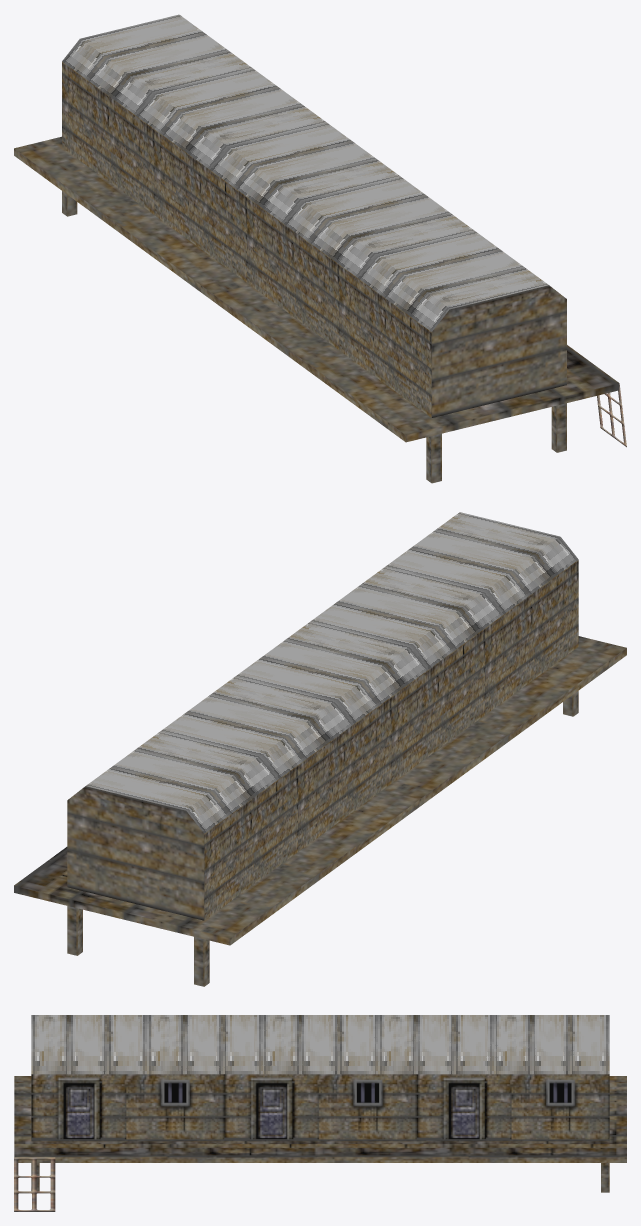
Rendered from s_barracks2.glb.
The picture shows the model from 3 angles, top to bottom: view 1: azimuth 30°, elevation 25°; view 2: azimuth 150°, elevation 25°; view 3: azimuth 270°, elevation 25°; orthographic projection. The views are drawn at different scales.
Visible parts, largest first — view 1: Object01; view 2: Object01; view 3: Object01.
Part boxes in pixels (x1,y1,x2,y2): Object01: (14, 14, 626, 483); Object01: (14, 512, 626, 986); Object01: (14, 1015, 626, 1211).
Bounding box in the file's own units: 7.7 × 5.68 × 23.66.
3 materials, 3 textured.
